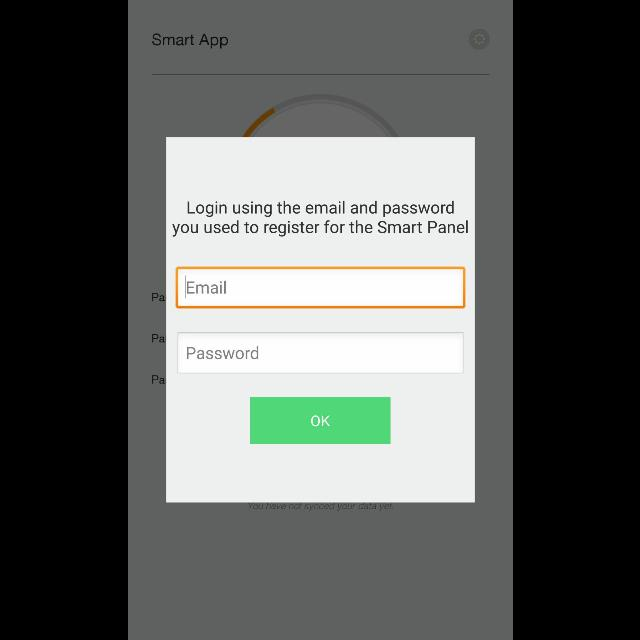icon: (468, 30, 489, 50)
input: (175, 267, 465, 309), (176, 332, 464, 374)
panel: (166, 137, 474, 503)
text: (171, 200, 467, 238), (151, 34, 227, 48), (186, 346, 258, 359), (187, 280, 226, 294)
textbutton: (250, 398, 390, 444)
